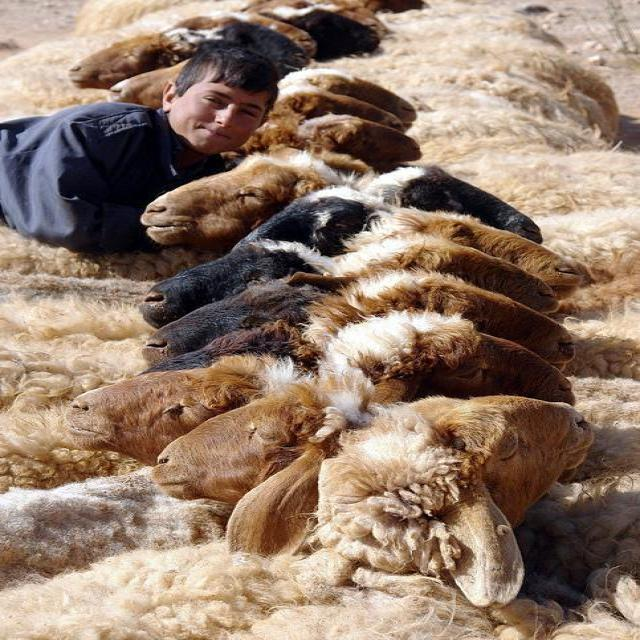Sheep: (0, 0, 639, 417), (1, 395, 599, 639), (0, 308, 580, 497), (0, 264, 575, 415), (139, 150, 639, 276), (224, 1, 621, 136), (151, 374, 395, 558), (69, 355, 310, 471), (362, 212, 583, 299), (220, 71, 421, 166), (331, 238, 562, 313), (144, 279, 334, 368), (147, 242, 331, 328), (266, 113, 423, 178)
